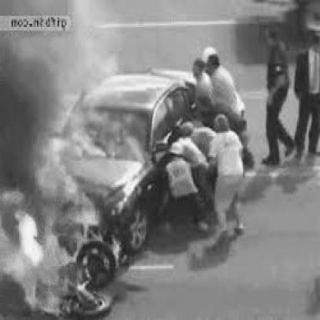Fire: (3, 121, 124, 315)
other: (168, 140, 192, 197)
